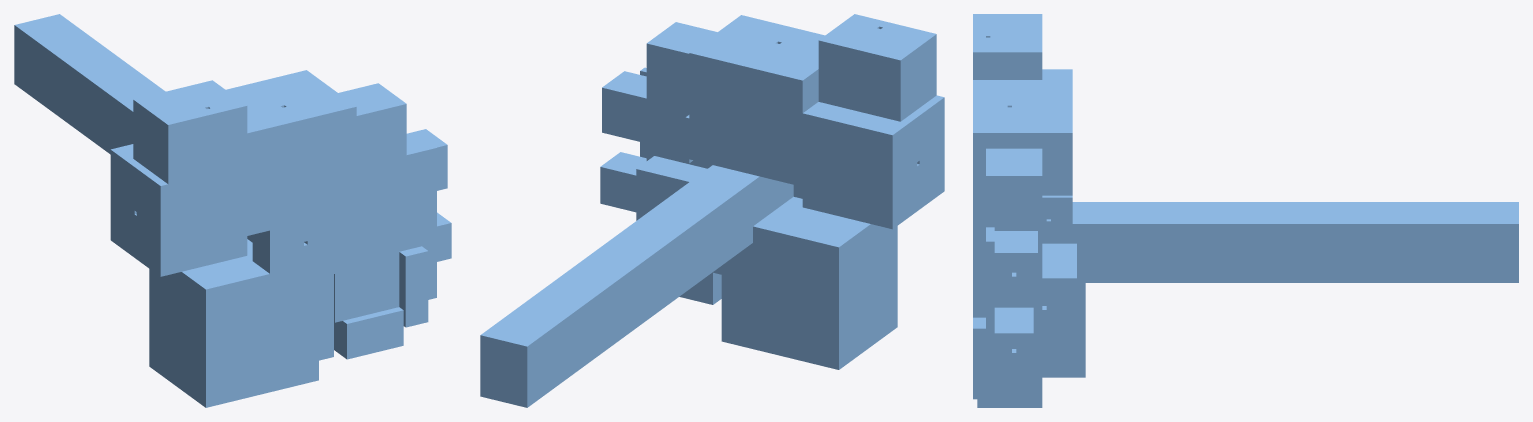
File: Forest-Tree2.obj
3 views of the same model, side by side, from view 1: azimuth 30°, elevation 25°; view 2: azimuth 150°, elevation 25°; view 3: azimuth 270°, elevation 25° (orthographic). The views are drawn at different scales.
Parts seen in each view (by area): view 1: Forest-Tree2; view 2: Forest-Tree2; view 3: Forest-Tree2.
Boxes of the visible parts, left/top/right/bottom form: Forest-Tree2: left=14, top=14, right=451, bottom=407; Forest-Tree2: left=480, top=14, right=944, bottom=407; Forest-Tree2: left=973, top=14, right=1518, bottom=407.
Size of the model in its own units: 80 by 74 by 126.
